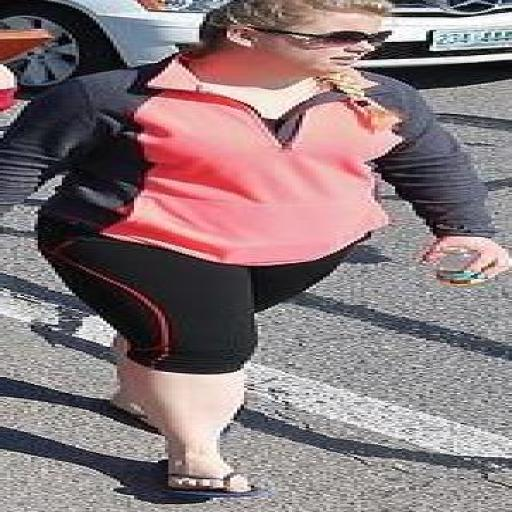person: (0, 0, 508, 497), (0, 65, 17, 111)
